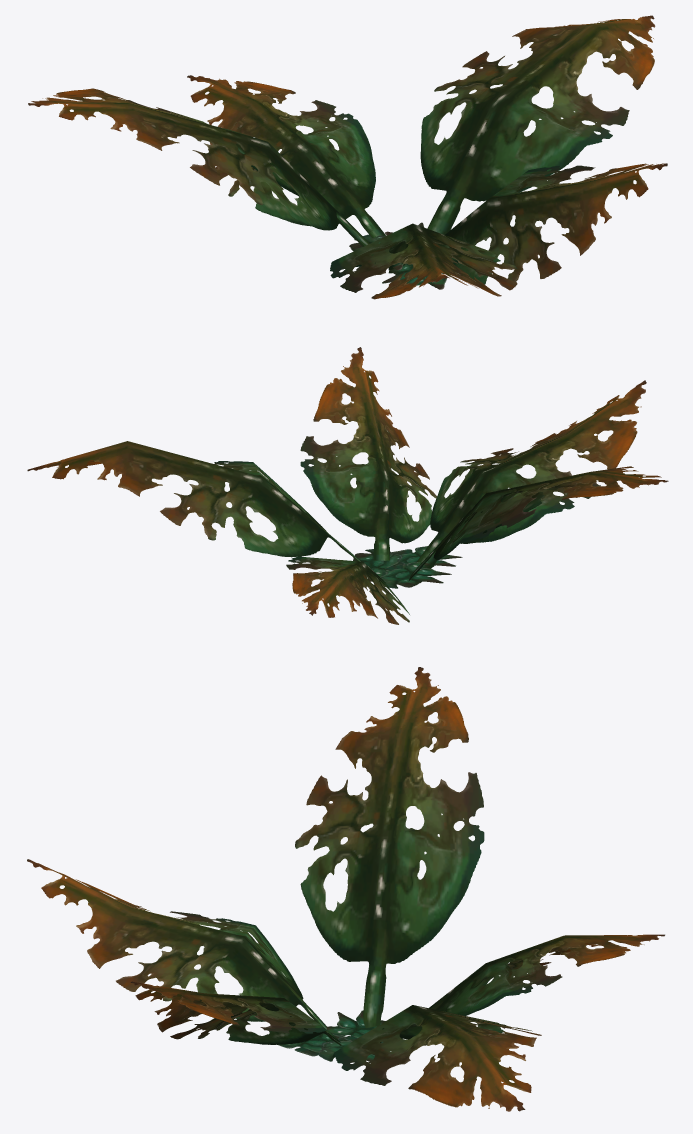
Rendered from stemple_fern_blank_04.fbx.
The picture shows the model from 3 angles, top to bottom: view 1: azimuth 30°, elevation 25°; view 2: azimuth 150°, elevation 25°; view 3: azimuth 270°, elevation 25°; orthographic projection. The views are drawn at different scales.
Visible parts, largest first — view 1: sunken_tileset/sunken_plants01_mat; view 2: sunken_tileset/sunken_plants01_mat; view 3: sunken_tileset/sunken_plants01_mat.
Part boxes in pixels (left/top/right/bottom): sunken_tileset/sunken_plants01_mat: left=28, top=15, right=667, bottom=299; sunken_tileset/sunken_plants01_mat: left=27, top=347, right=668, bottom=624; sunken_tileset/sunken_plants01_mat: left=27, top=667, right=664, bottom=1111.
Bounding box in the file's own units: 4.86 × 1.56 × 4.01.
